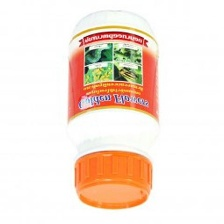insecticide: (61, 3, 161, 211)
